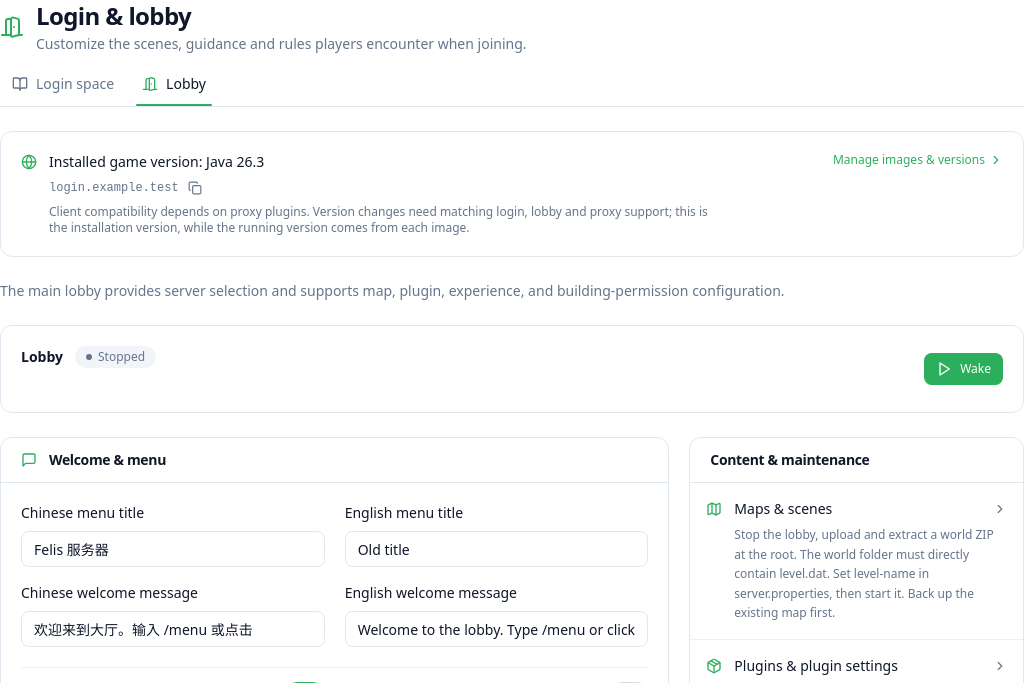
it: LobbyPage › confirms a switch with unsaved edits
The width and height of the screenshot is (1024, 683).
Replace the text in the field labelled "English menu title" with "My Network": (497, 549) left=345, top=531, right=648, bottom=567
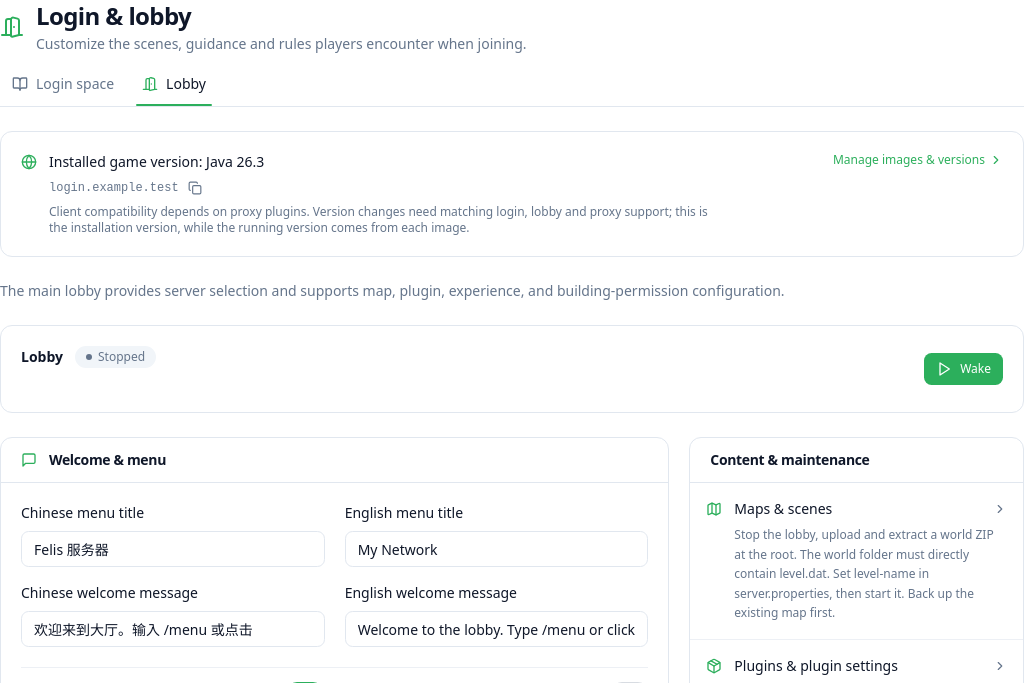
Click the tab "Login space": (63, 86) left=0, top=66, right=126, bottom=106
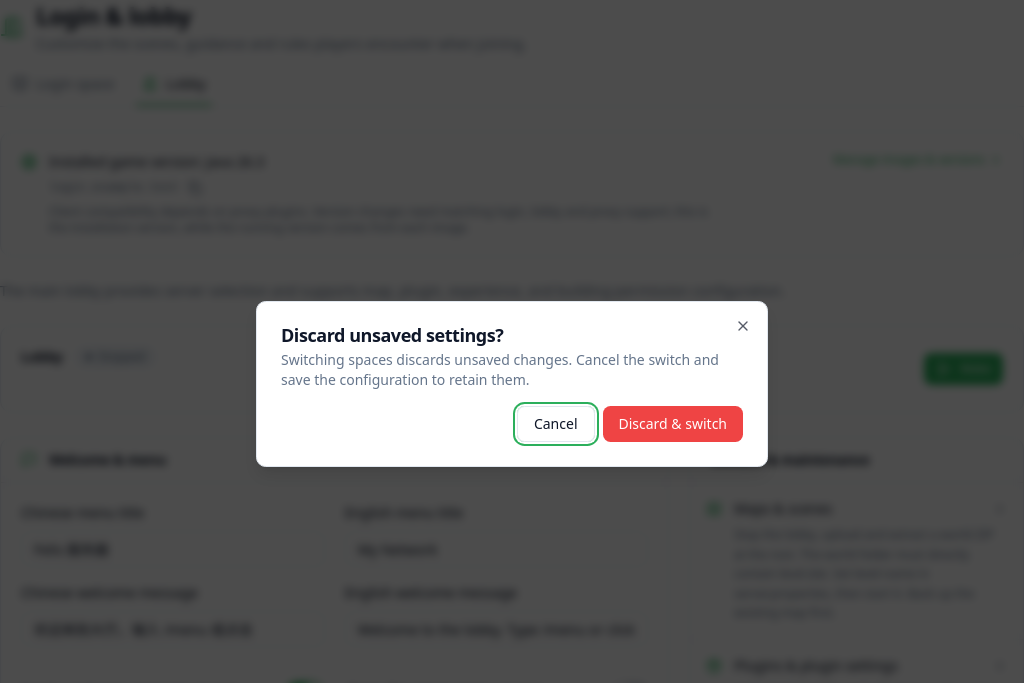
Check: the dialog "Discard unsaved settings?" is shown, box left=256, top=301, right=768, bottom=467
Click the button "Discard & switch": (673, 424) left=602, top=406, right=743, bottom=442
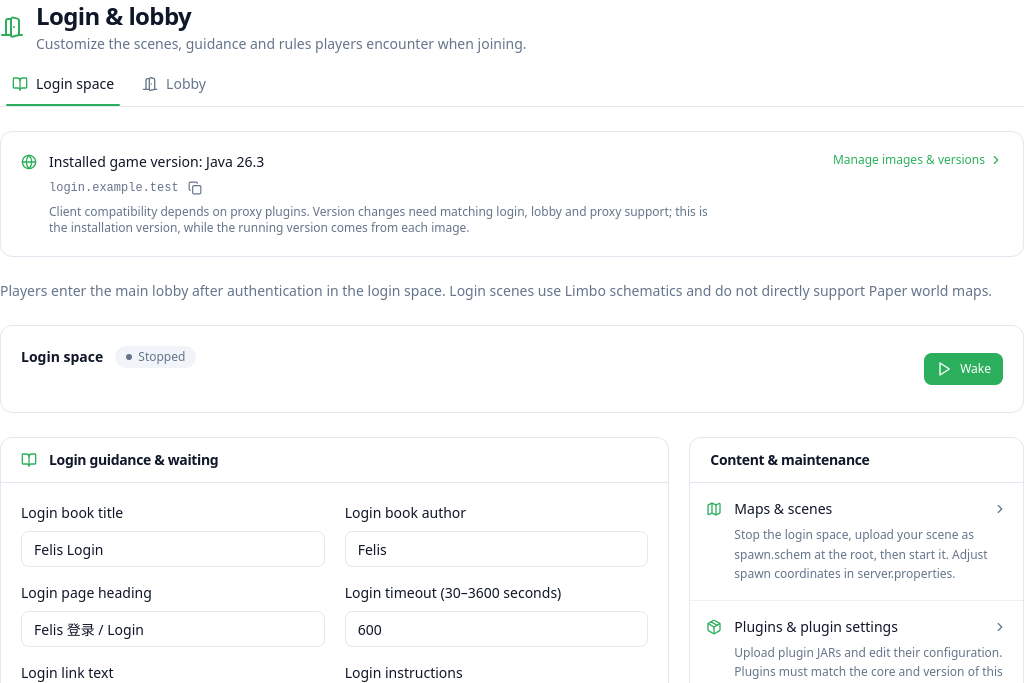
Check: the field labelled "Login book title" is shown, box left=21, top=531, right=325, bottom=567
